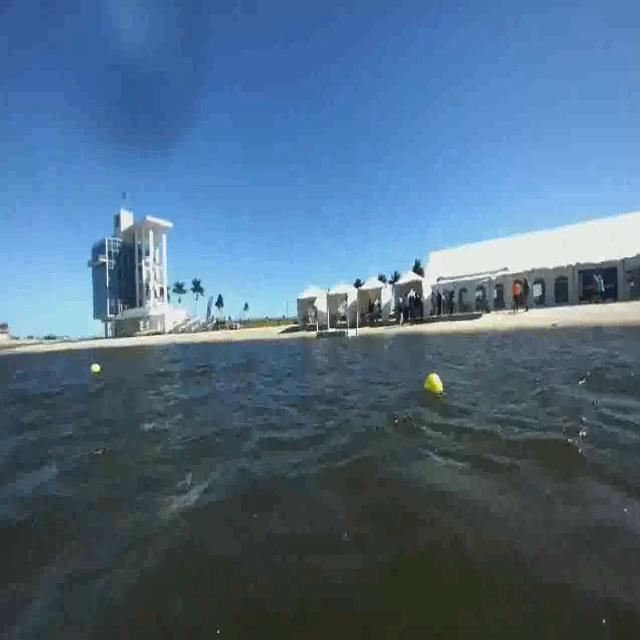yellow-buoy: (423, 371, 443, 394), (91, 361, 102, 375)
